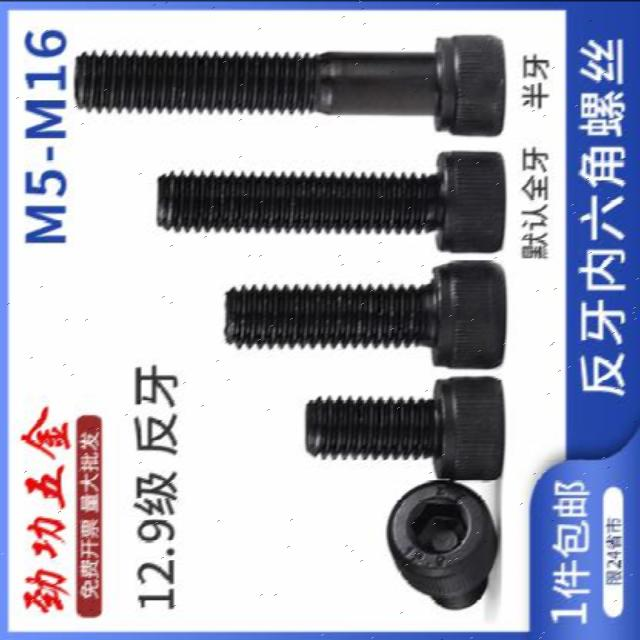Bolt: (72, 28, 508, 136), (155, 146, 508, 254), (223, 254, 508, 370), (302, 372, 508, 479), (383, 478, 499, 612)
